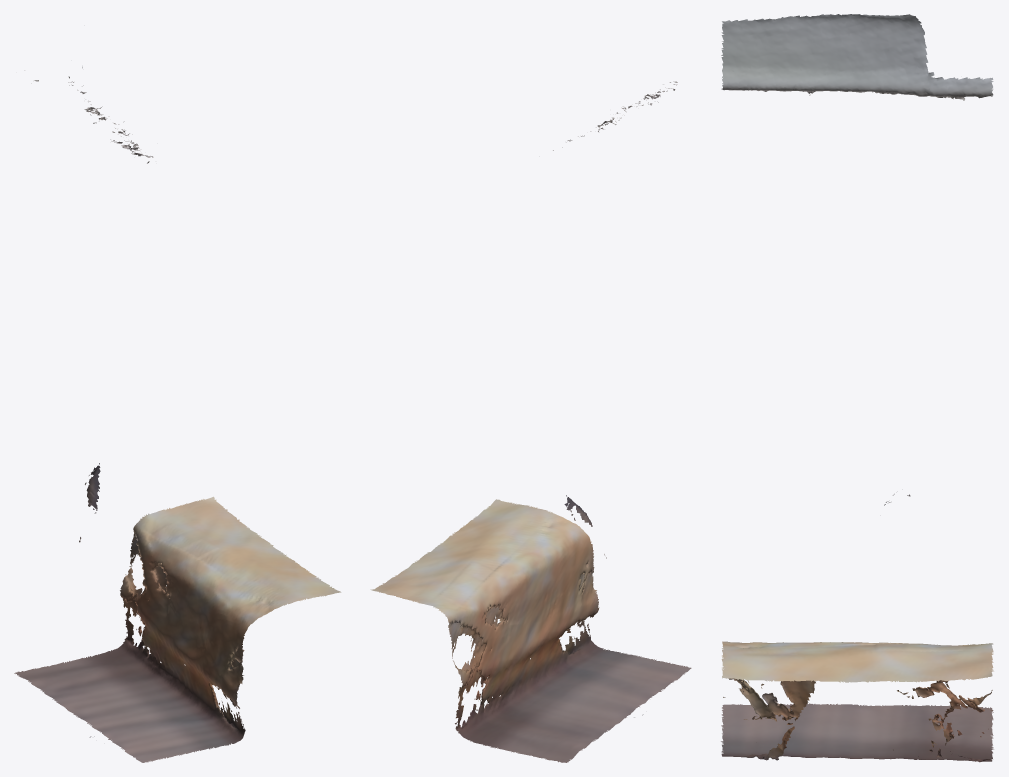
File: apartment-full-20-435a359fad35.glb
3 views of the same model, side by side, from view 1: azimuth 30°, elevation 25°; view 2: azimuth 150°, elevation 25°; view 3: azimuth 270°, elevation 25° (orthographic). The views are drawn at different scales.
Size of the model in its own units: 0.853 by 2.77 by 0.947.
